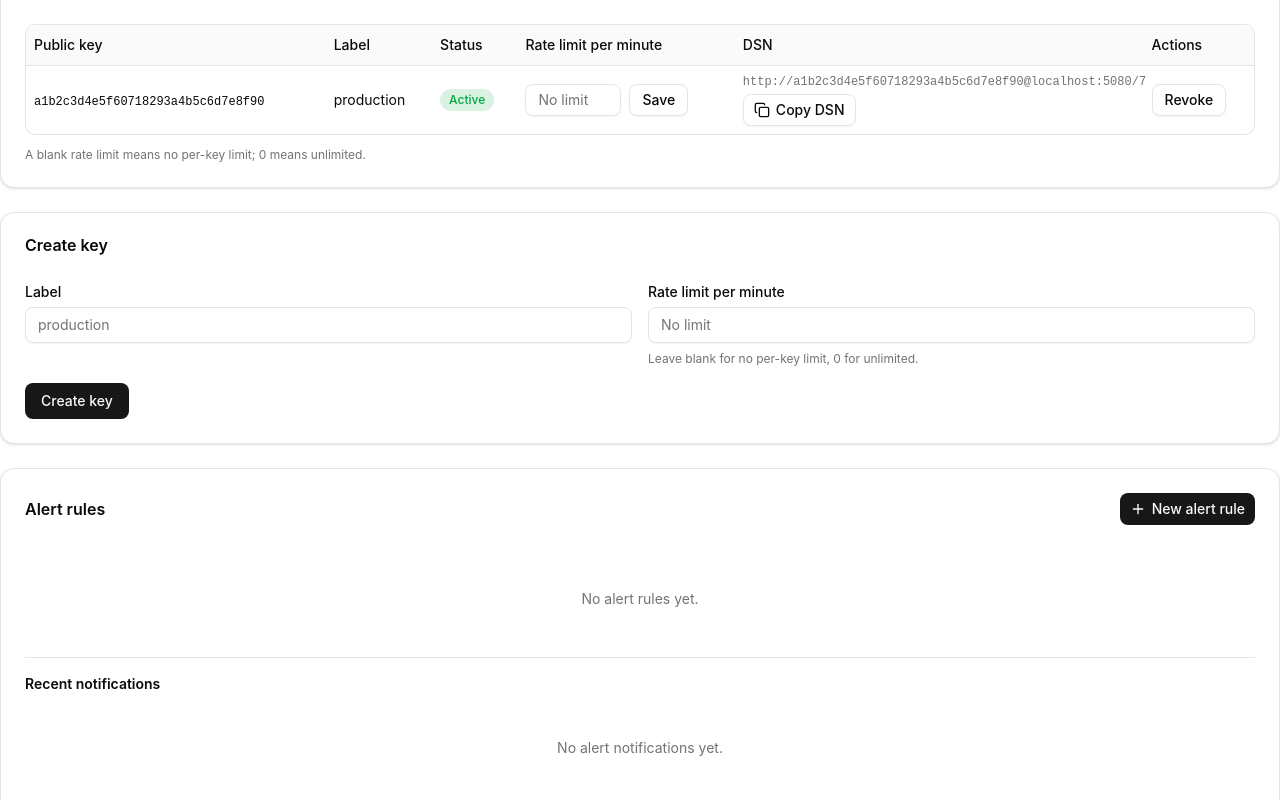
Scenario: ProjectDetailPage › omits the optional create fields when they are left blank
(page scrolled)
Click the button "Create key".
click(77, 400)  # box [25,382,129,418]
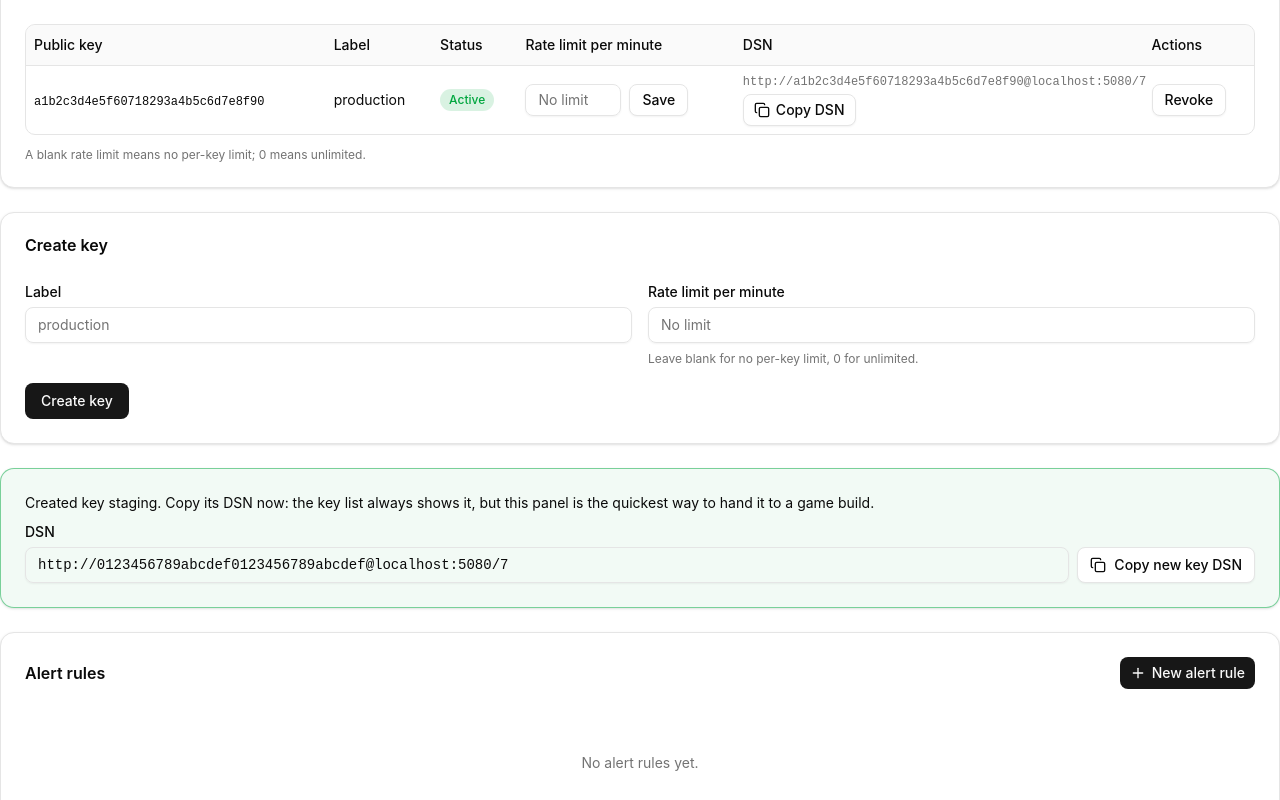
Now the element with test id "created-key" is shown, box [0,468,1279,608]
